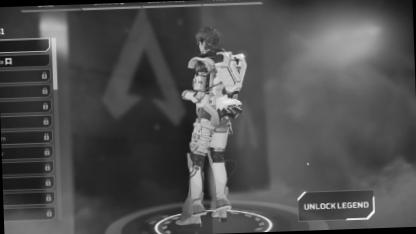Target: (182, 20, 249, 198)
